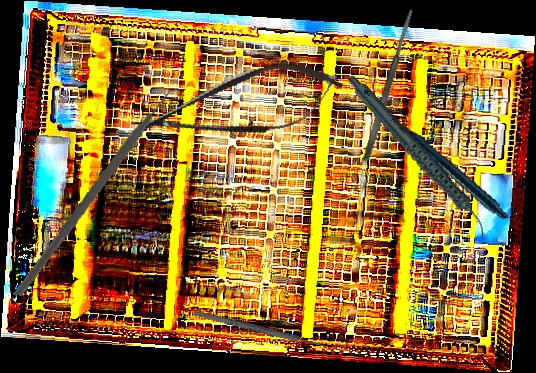Chopper: (12, 75, 196, 310)
Handpiece: (345, 53, 491, 260), (389, 88, 509, 238)
Hook Surgical: (191, 302, 350, 357)
Micro Scissor: (123, 51, 350, 161)
Spatula Surgical: (361, 7, 417, 162)
